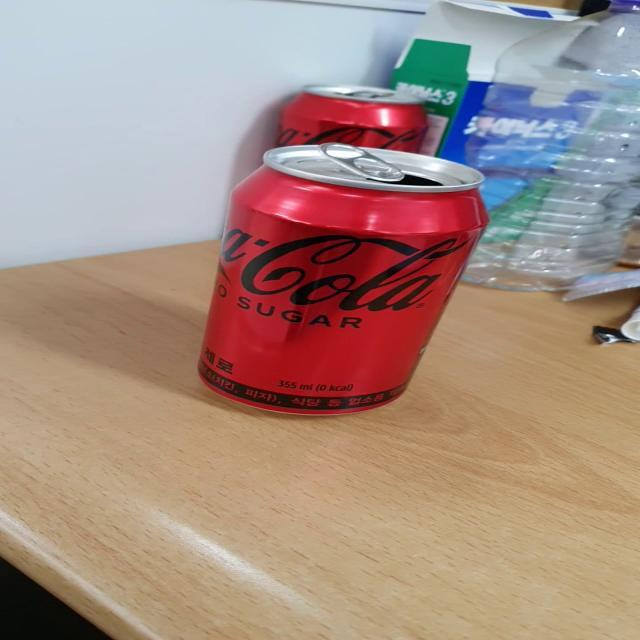coca-cola: (193, 135, 495, 435)
